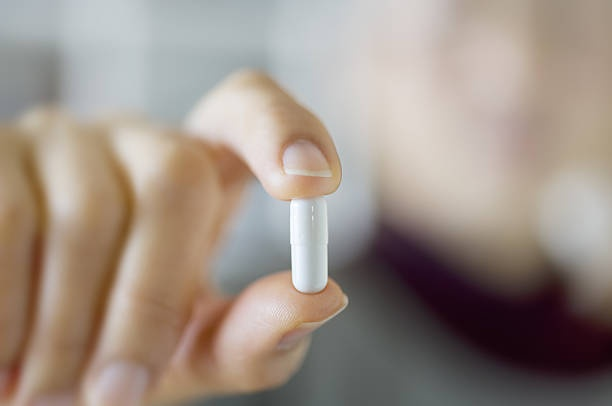pills: (287, 181, 340, 301)
